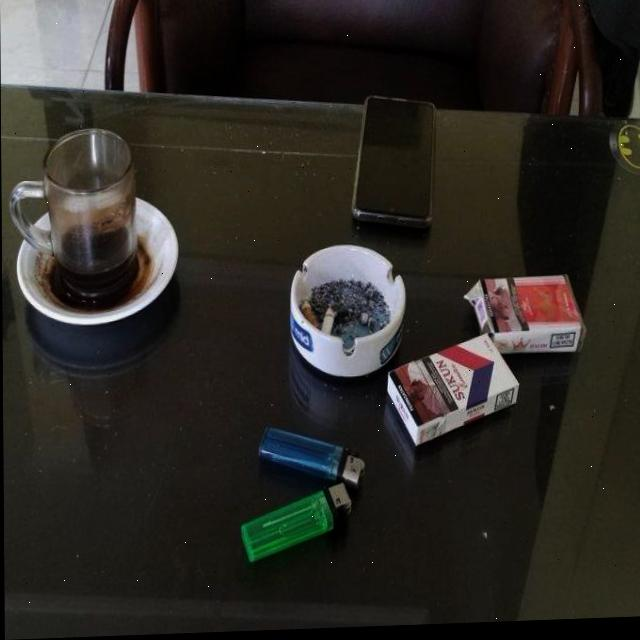cigarette: (322, 311, 338, 340)
